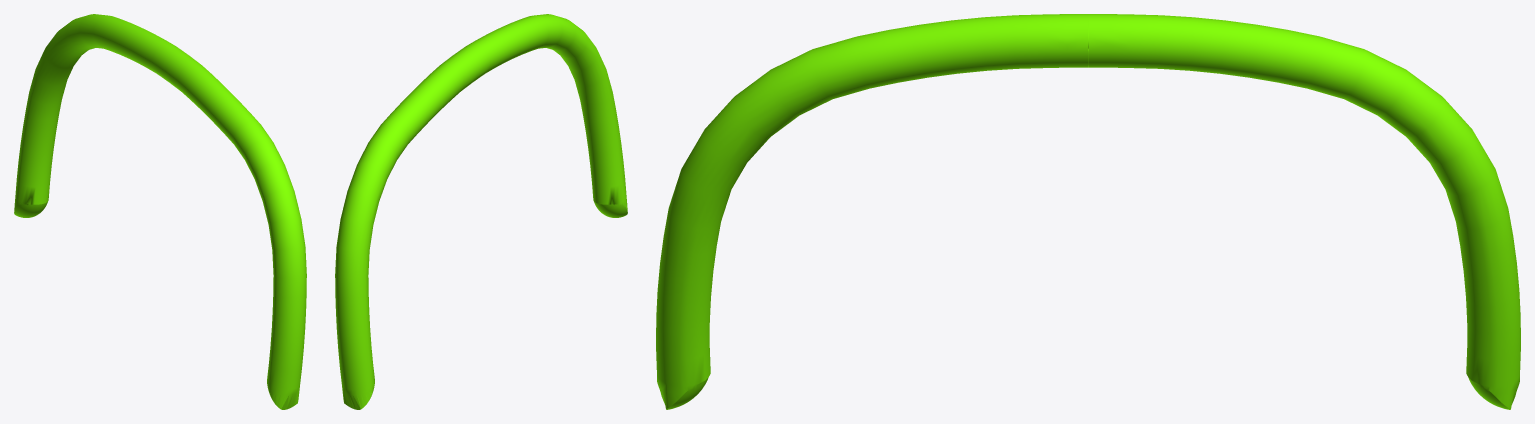
File: chair_027_12.obj
3 views of the same model, side by side, from view 1: azimuth 30°, elevation 25°; view 2: azimuth 150°, elevation 25°; view 3: azimuth 270°, elevation 25° (orthographic). The views are drawn at different scales.
Size of the model in its own units: 31.79 by 152 by 291.
